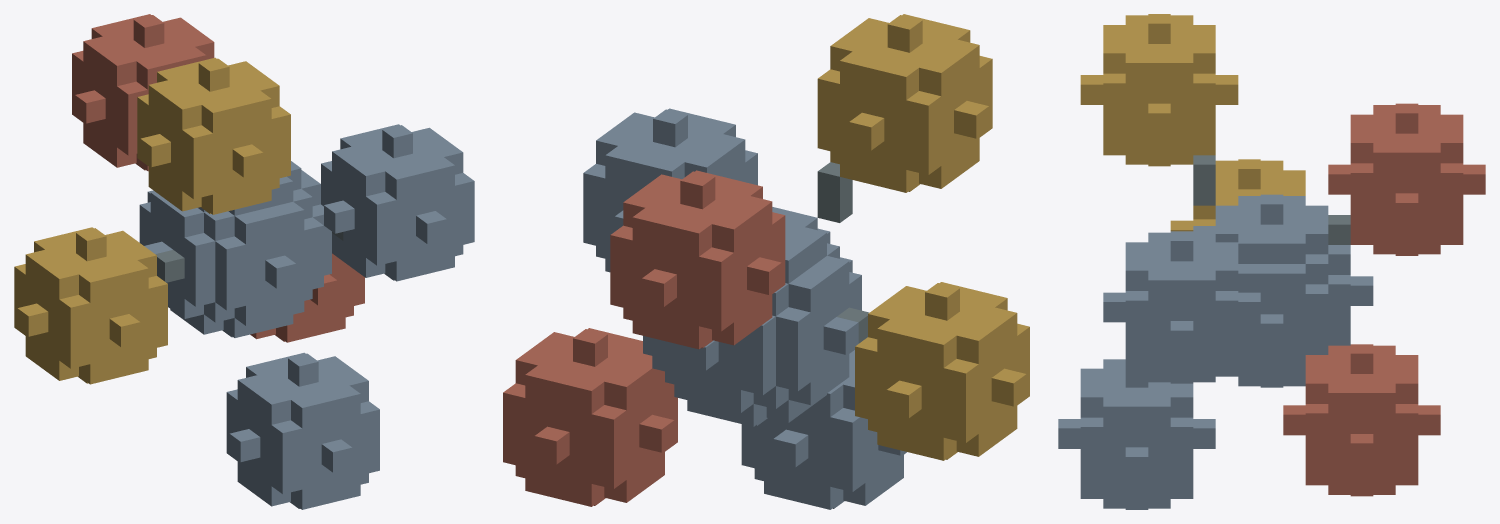
Rendered from physics-10.glb.
3 renders of one model, left to right at view 1: azimuth 30°, elevation 25°; view 2: azimuth 150°, elevation 25°; view 3: azimuth 270°, elevation 25°, orthographic. The views are drawn at different scales.
Visible parts, largest first — view 1: Atom model; view 2: Atom model; view 3: Atom model.
Boxes of the visible parts, x1,y1,x2,y2 form: Atom model: (14, 14, 474, 509); Atom model: (503, 14, 1029, 509); Atom model: (1058, 14, 1485, 509).
Bounding box in the file's own units: 1.68 × 1.76 × 1.52.
